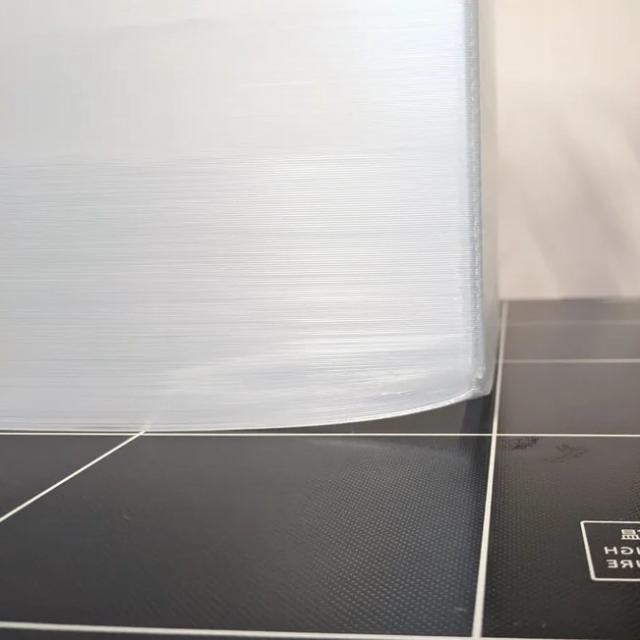Warping: (356, 384, 492, 426)
